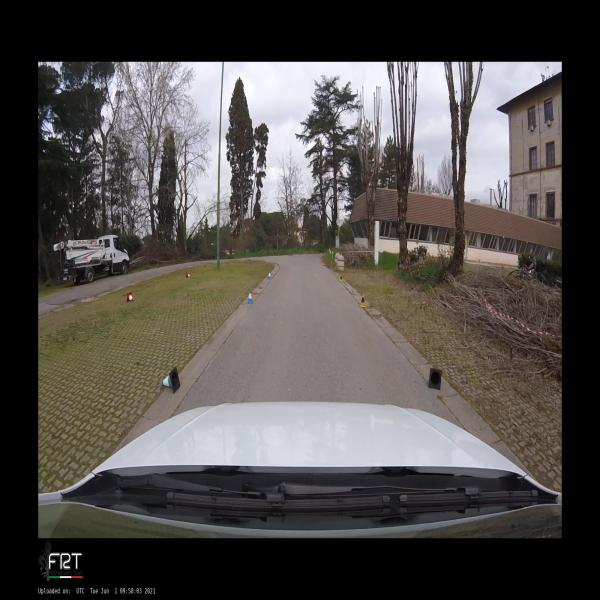blue_cone: (161, 366, 181, 394), (247, 290, 253, 304), (267, 271, 272, 280)
orange_cone: (127, 292, 134, 302), (186, 273, 191, 278)
unknown_cone: (428, 368, 442, 390)
yellow_cone: (359, 294, 366, 308), (339, 274, 343, 283)
